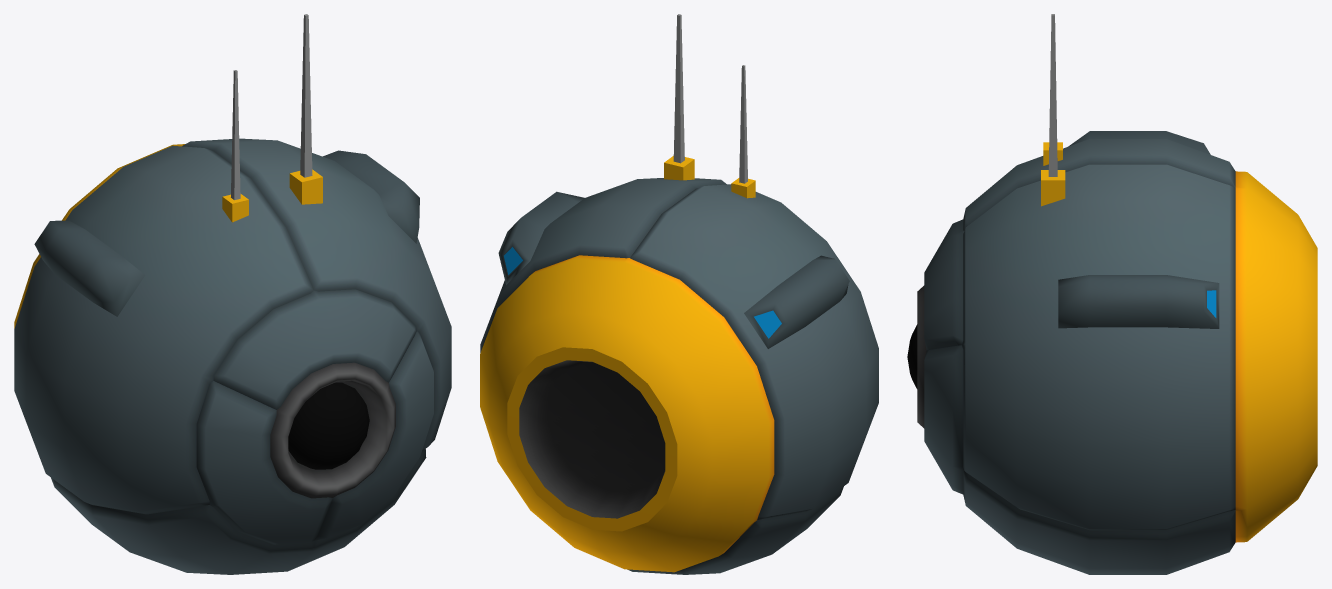
Rendered from Drone_012.fbx.
3 renders of one model, left to right at view 1: azimuth 30°, elevation 25°; view 2: azimuth 150°, elevation 25°; view 3: azimuth 270°, elevation 25°, orthographic. The views are drawn at different scales.
Visible parts, largest first — view 1: Drone_012; view 2: Drone_012; view 3: Drone_012.
Boxes of the visible parts, <box> form: Drone_012: <box>14,14,451,574</box>; Drone_012: <box>480,14,878,574</box>; Drone_012: <box>907,14,1317,574</box>.
Bounding box in the file's own units: 32.63 × 31.06 × 46.66.
